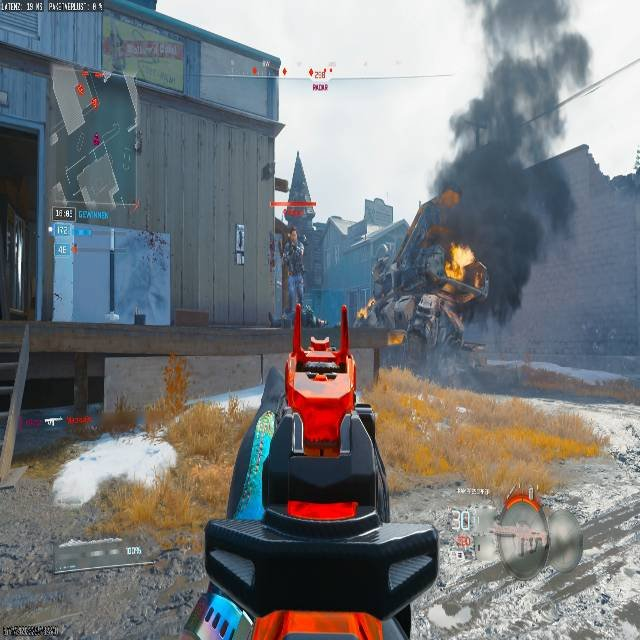player: (282, 224, 305, 309)
